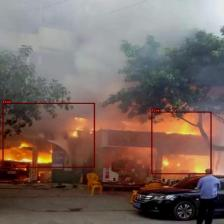fire: (2, 102, 95, 168), (151, 111, 211, 174)
